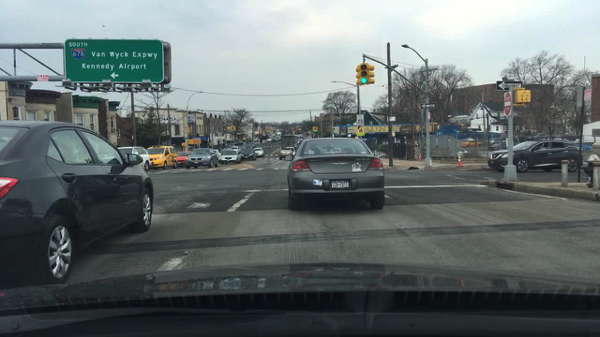car: (0, 119, 154, 286), (287, 137, 386, 209), (486, 139, 585, 174), (117, 146, 151, 172), (146, 145, 176, 170), (186, 147, 219, 169), (175, 149, 192, 168), (222, 150, 242, 164), (278, 147, 296, 161), (240, 148, 257, 162), (459, 137, 482, 147), (490, 142, 508, 152), (213, 148, 223, 163), (253, 147, 265, 158), (580, 143, 592, 150), (231, 145, 241, 151), (247, 142, 255, 148)
traffic light: (513, 89, 531, 105), (359, 64, 368, 86), (368, 65, 376, 84), (355, 66, 359, 86), (434, 124, 442, 132), (426, 124, 433, 132), (230, 125, 234, 133), (311, 125, 315, 132), (188, 126, 191, 135), (315, 127, 317, 133)
traffic sign: (64, 39, 162, 83), (162, 41, 173, 84), (497, 81, 522, 90), (503, 91, 511, 116), (355, 128, 367, 139), (421, 102, 436, 109), (355, 116, 365, 125), (37, 74, 49, 81), (388, 116, 396, 122)
truck: (280, 135, 299, 150)
